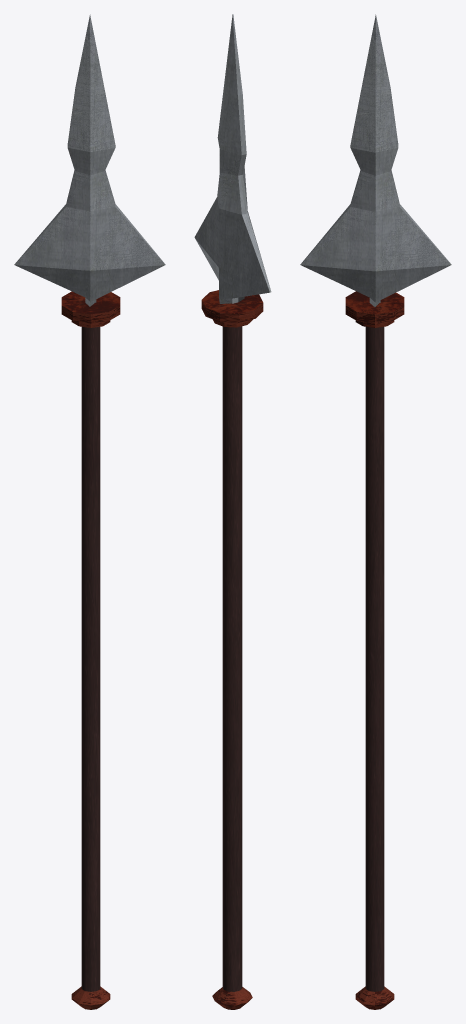
Rendered from lance02.FBX.
The picture shows the model from 3 angles, left to right: view 1: azimuth 90°, elevation 25°; view 2: azimuth 210°, elevation 25°; view 3: azimuth 270°, elevation 25°; orthographic projection.
Visible parts, largest first — view 1: Cylinder001, Box001; view 2: Cylinder001, Box001; view 3: Cylinder001, Box001.
Part boxes in pixels (x1=…): Cylinder001: x1=61, y1=291, x2=120, y2=1009; Box001: x1=14, y1=14, x2=165, y2=306; Cylinder001: x1=201, y1=290, x2=263, y2=1009; Box001: x1=194, y1=14, x2=271, y2=303; Cylinder001: x1=345, y1=291, x2=404, y2=1009; Box001: x1=300, y1=14, x2=451, y2=306.
Size of the model in its own units: 6.21 by 110 by 15.16.
